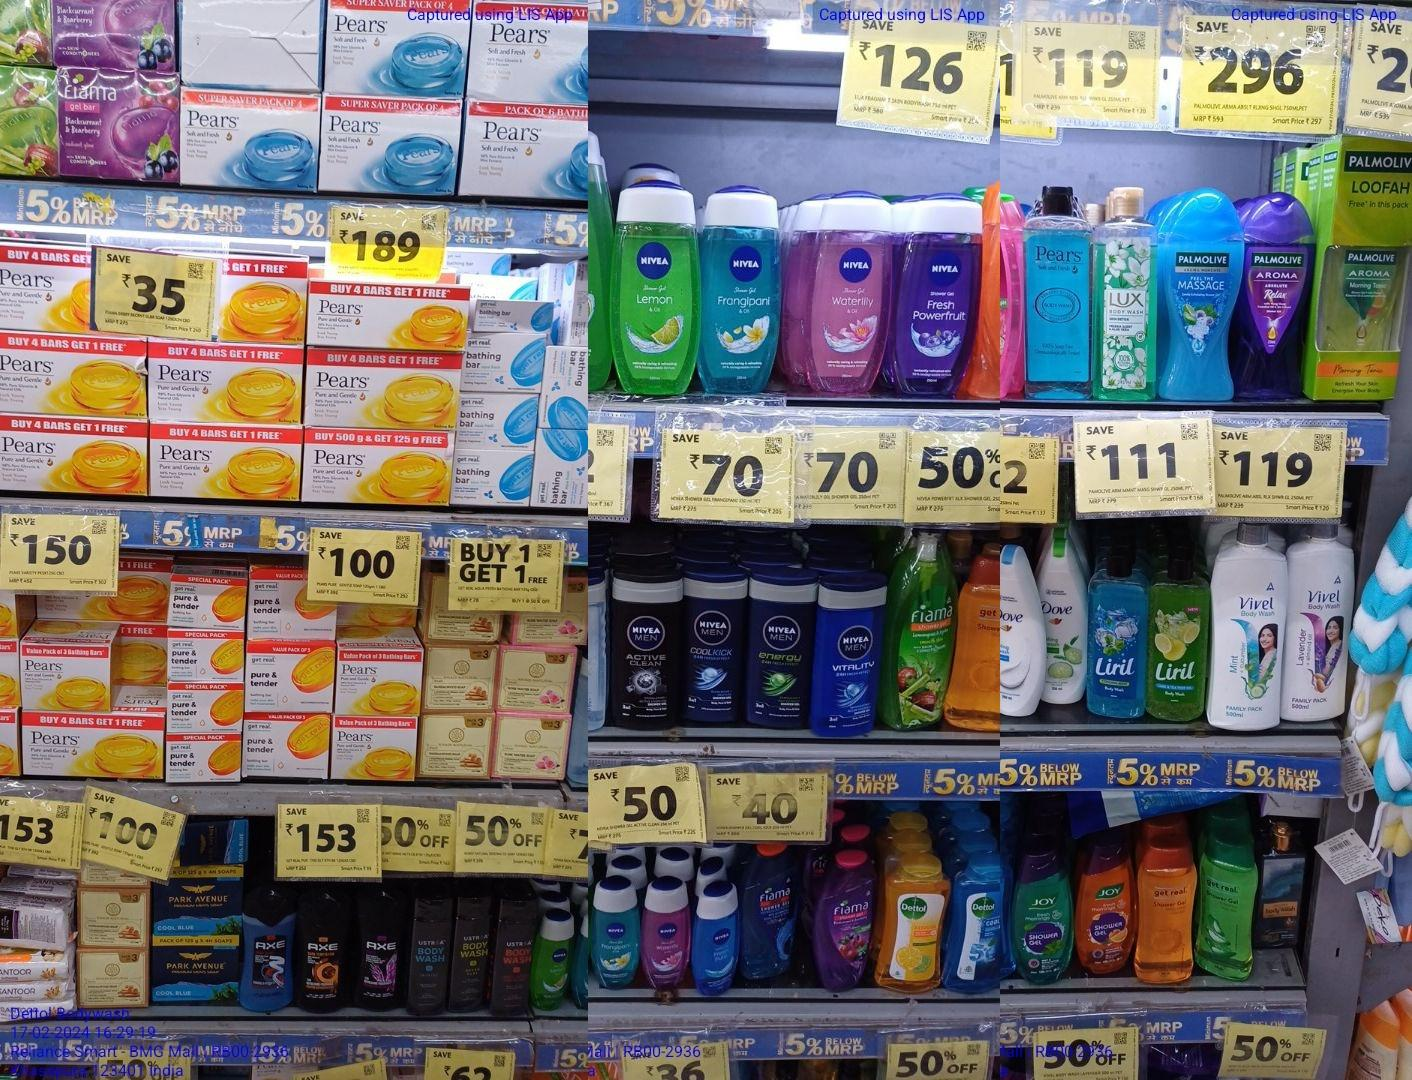Dettol_Bodywash_Cool: (950, 854, 1001, 997)
Dettol_Bodywash_Refresh: (877, 853, 942, 993)
Dove_Refreshing_Body_Wash_250ML: (1040, 535, 1085, 706)
Get_Real_Shower_Gel_Moisturising_Glycerin_300ML: (1139, 835, 1195, 989)
Joy_Shower_Gel_Mandarin_and_Lemongrass_250ML: (1080, 838, 1134, 977)
Joy_Shower_Gel_Mint_and_Eucalyptus_250ML: (1016, 842, 1071, 990)
Liril_Cooling_Mint_Body_Wash_250ML: (1088, 549, 1142, 717)
Liril_Lime_and_Tea_Tree_Oil_Body_Wash_250ML: (1148, 552, 1202, 719)
Lux_Body_Wash_Skin_Detox_Freesia_Scent_and_Alove_Vera_245ML: (1088, 175, 1160, 404)
Nivea_Shower_Gel_Frangipani_and_Oil_250ML: (699, 186, 781, 395)
Nivea_Shower_Gel_Fresh_Powerfruit_250ML: (895, 195, 974, 398)
Nivea_Shower_Gel_Lemon_and_Oil_250ML: (611, 180, 699, 397)
Nivea_Shower_Gel_Waterlily_and_Oil_250ML: (802, 193, 890, 388)
Palmolive_Aroma_Moments_Feel_The_Massage_Shower_Gel_250ML: (1167, 189, 1237, 407)
Palmolive_Aroma_Relax_250ML: (1241, 189, 1305, 405)
Pears_Pure_Glycerin_and_Mint_Extracts_Body_Wash_250ML: (1029, 183, 1087, 407)
